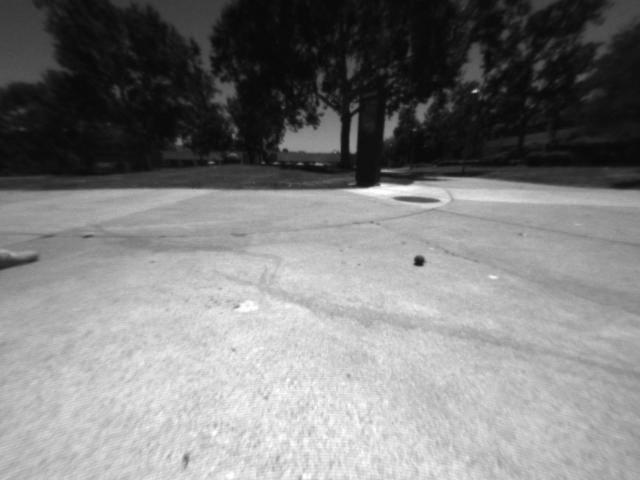dogtoy: (409, 248, 428, 271)
